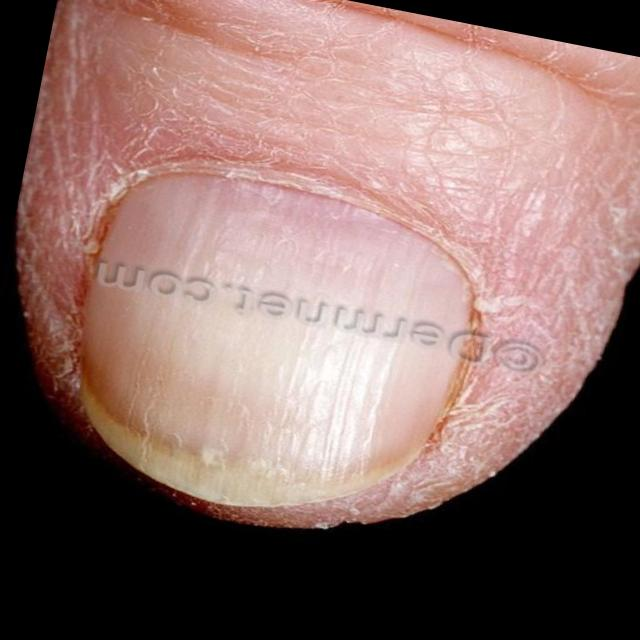Nail: (67, 171, 482, 506)
